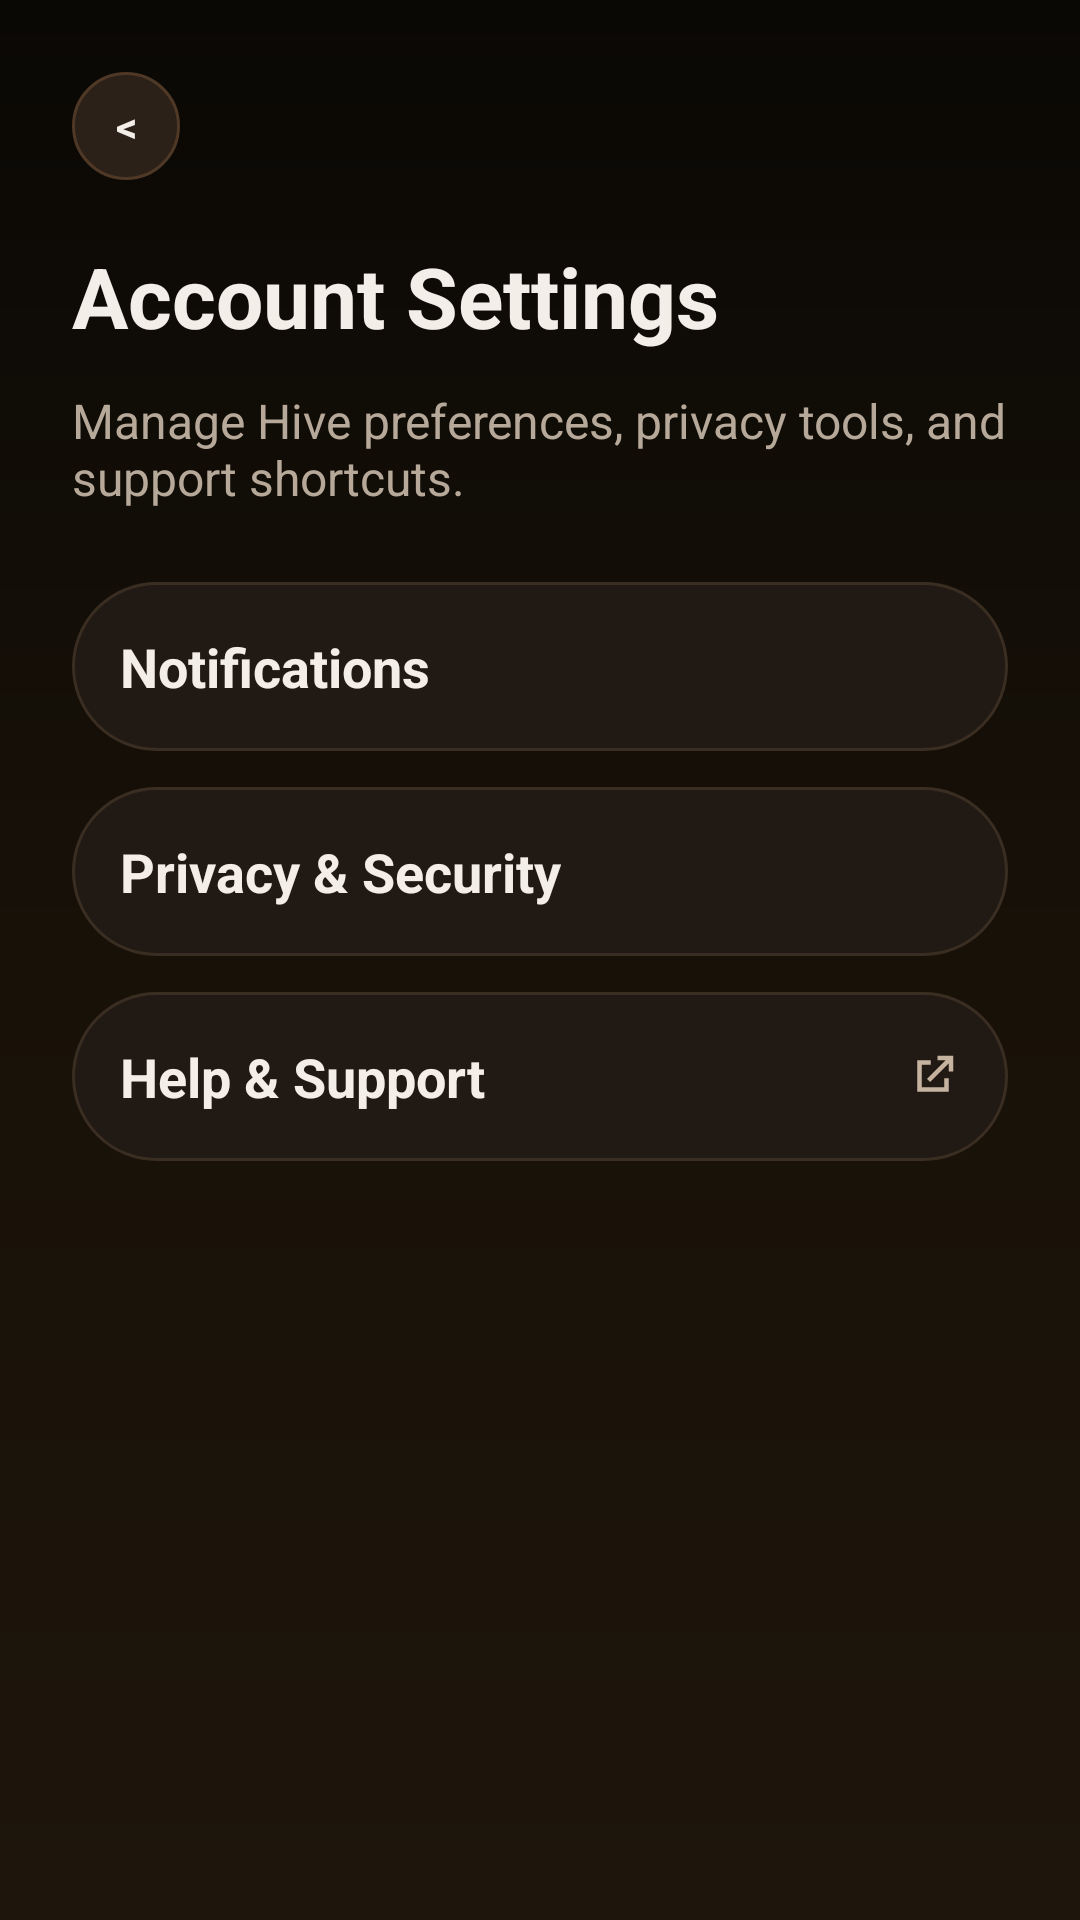

Named icons in this screenshot (1080x1920) and their bounding boxes, (x1, y1, x2, y2):
Opens in web browser: (917, 1055, 954, 1092)
